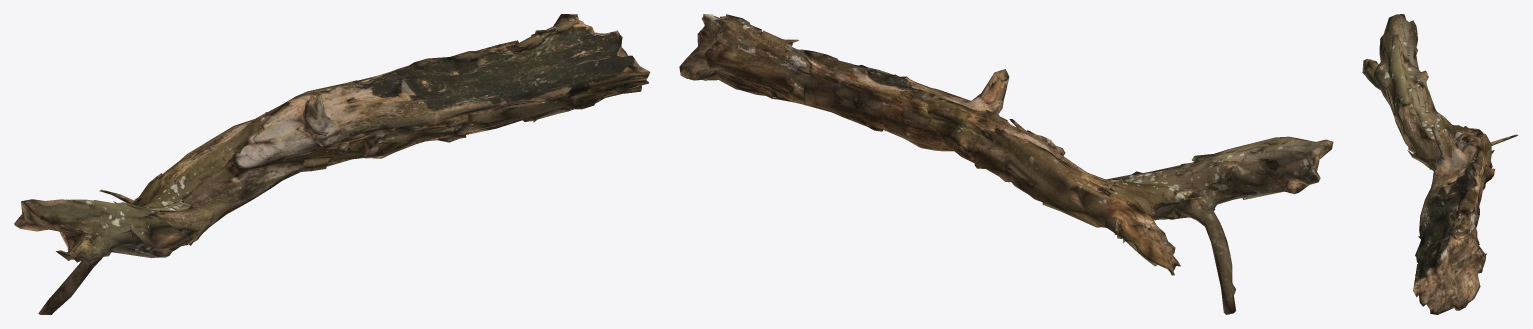
File: log_dead_fallen.glb
3 renders of one model, left to right at view 1: azimuth 30°, elevation 25°; view 2: azimuth 150°, elevation 25°; view 3: azimuth 270°, elevation 25°, orthographic. The views are drawn at different scales.
Parts seen in each view (by area): view 1: dead_tree_trunk_02; view 2: dead_tree_trunk_02; view 3: dead_tree_trunk_02.
Part boxes in pixels (x1,y1,x2,y2): dead_tree_trunk_02: (14, 14, 650, 314); dead_tree_trunk_02: (679, 14, 1333, 314); dead_tree_trunk_02: (1362, 14, 1517, 314).
Size of the model in its own units: 4.05 by 1.05 by 1.05.
Materials: 1 (1 with a texture image).
